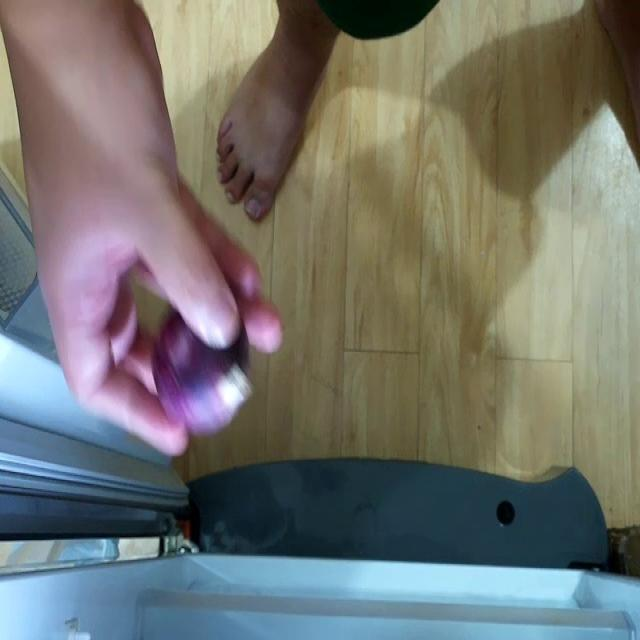onion: (148, 303, 253, 425)
